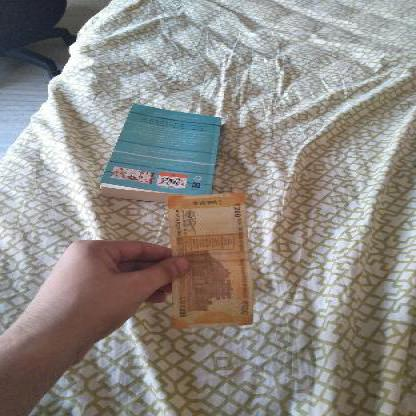New200Back: (163, 191, 253, 323)
